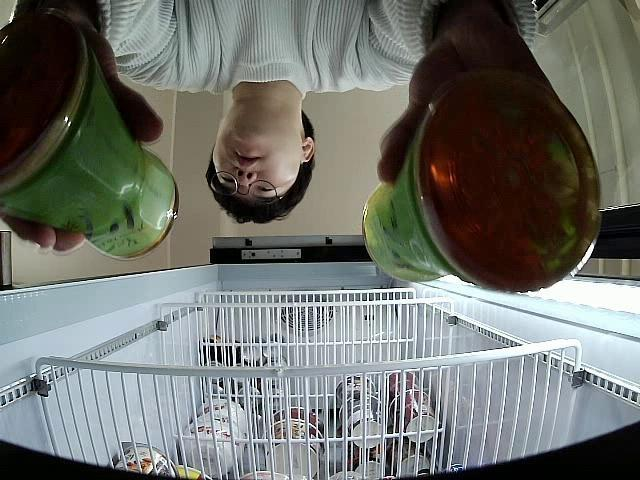19_17cha: (362, 76, 600, 297), (0, 13, 179, 260)
